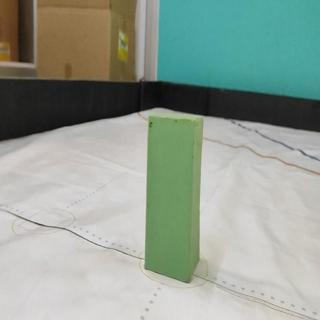greenbox: (143, 111, 205, 284)
